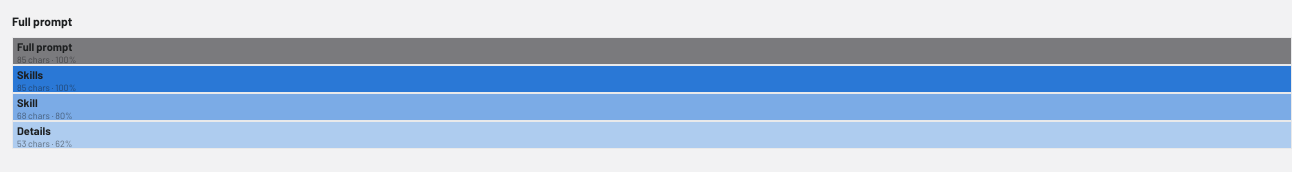
Test: PromptCompositionIcicle › zooms in on click, revealing descendants beyond the menu's depth-3 cap
This screenshot has width=1292, height=172.
Click the element showing "Skill 68 chars · 80%": (652, 107) [12, 93, 1291, 121]
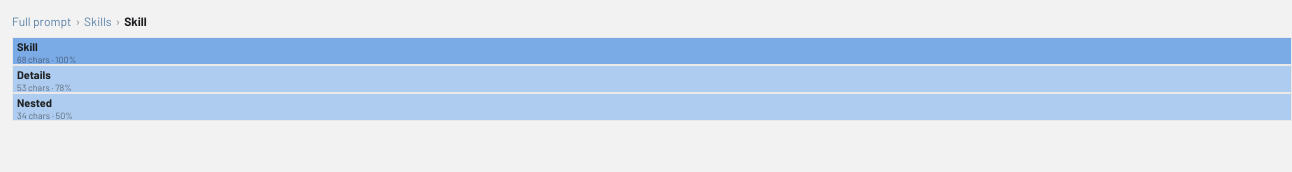
Expected: the 1st text "Skill" is shown, [124, 12, 147, 31]
